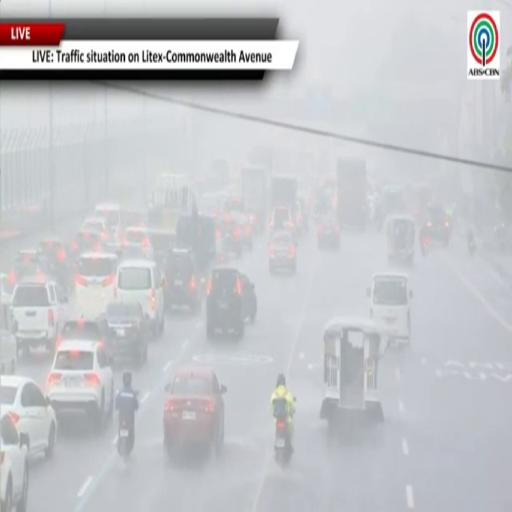car: (47, 341, 114, 429), (164, 368, 227, 457), (0, 376, 56, 458), (11, 276, 68, 355), (116, 260, 166, 337), (367, 272, 412, 343), (75, 252, 118, 319), (105, 300, 149, 364), (206, 267, 245, 339), (0, 414, 28, 511), (164, 249, 202, 312), (5, 250, 46, 293), (39, 236, 71, 290), (58, 318, 106, 345), (421, 205, 451, 247), (268, 231, 296, 273), (70, 229, 104, 259), (148, 228, 175, 265), (122, 227, 153, 259), (95, 203, 121, 241), (240, 274, 257, 323), (224, 215, 243, 258), (0, 329, 17, 375), (317, 215, 340, 248), (232, 213, 253, 249), (0, 274, 14, 328), (82, 217, 110, 243), (270, 206, 294, 232), (122, 208, 148, 228), (216, 224, 228, 264), (224, 195, 245, 212)
motorcycle: (274, 405, 293, 467), (117, 419, 133, 461), (118, 421, 131, 460), (467, 233, 476, 255)
truck: (336, 157, 368, 229), (241, 165, 269, 232), (271, 175, 297, 219)
